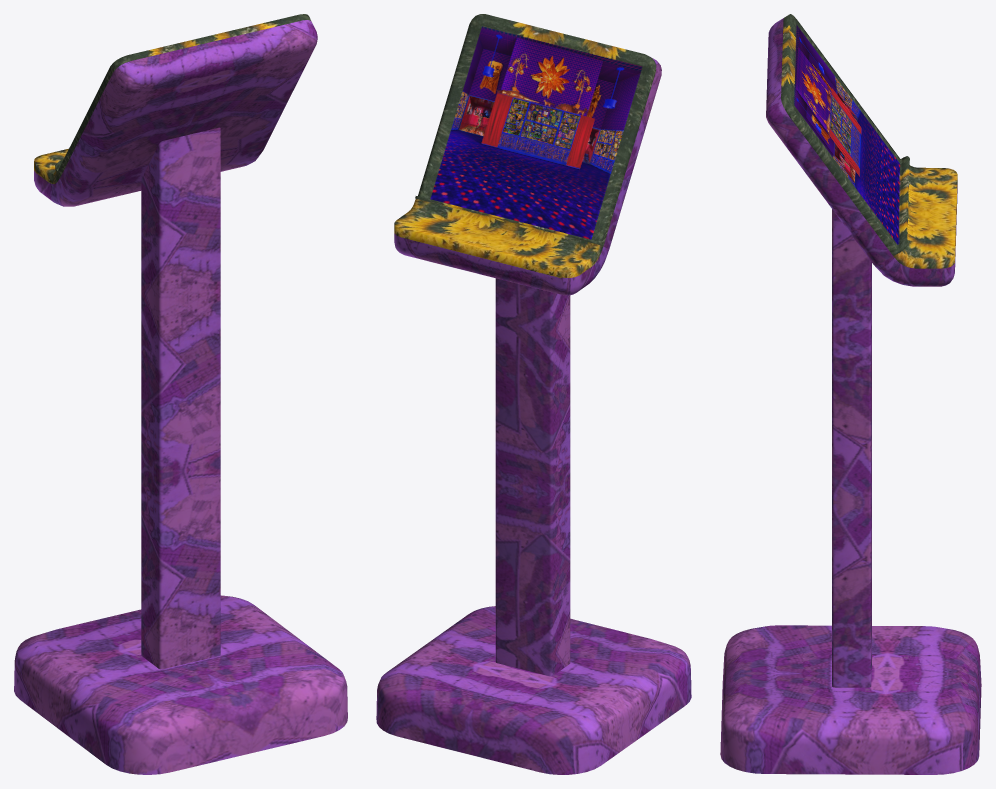
Rendered from wwwunderkammer_Regine_Asset_bakeFinalKiosk-01.glb.
3 renders of one model, left to right at view 1: azimuth 30°, elevation 25°; view 2: azimuth 150°, elevation 25°; view 3: azimuth 270°, elevation 25°, orthographic. The views are drawn at different scales.
Parts seen in each view (by area): view 1: CombinedMesh.007; view 2: CombinedMesh.007; view 3: CombinedMesh.007.
Part boxes in pixels (box(x1,y1,x2,y2)): CombinedMesh.007: box(14, 14, 347, 774); CombinedMesh.007: box(376, 14, 691, 774); CombinedMesh.007: box(720, 14, 981, 774).
Size of the model in its own units: 0.7424 by 2.08 by 0.7424.
2 materials, 2 textured.
